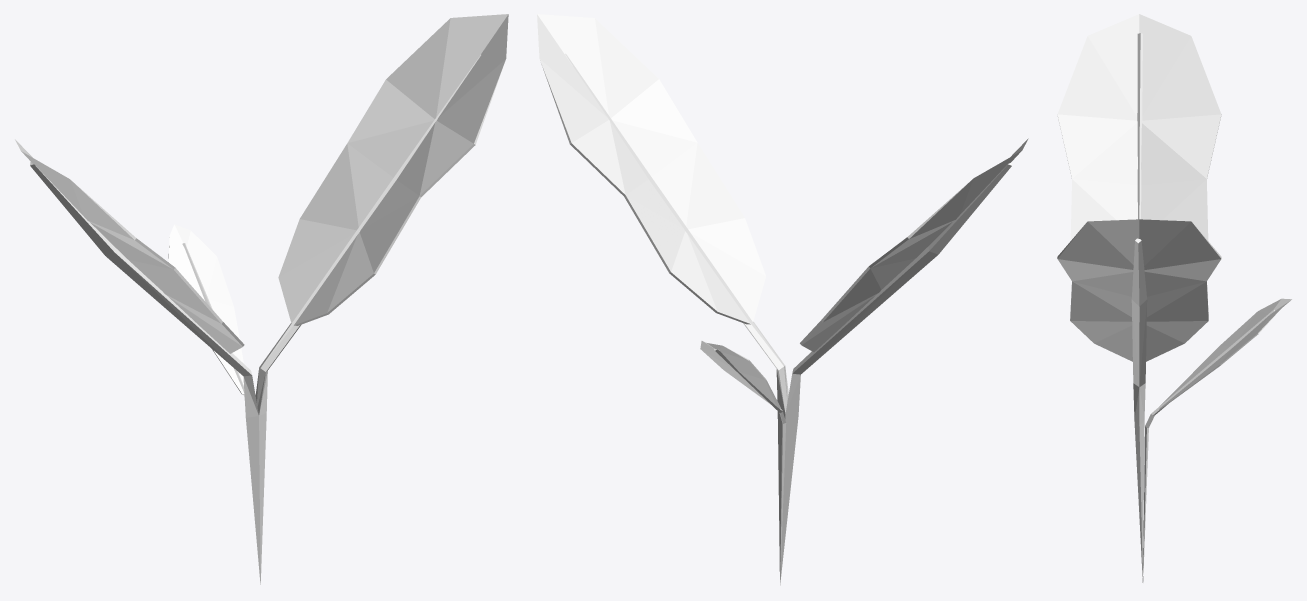
Rendered from Crop_Beetroot_STAGE_1_01.glb.
The picture shows the model from 3 angles, left to right: view 1: azimuth 30°, elevation 25°; view 2: azimuth 150°, elevation 25°; view 3: azimuth 270°, elevation 25°; orthographic projection. The views are drawn at different scales.
Parts seen in each view (by area): view 1: Crop_Beetroot_STAGE_1_01; view 2: Crop_Beetroot_STAGE_1_01; view 3: Crop_Beetroot_STAGE_1_01.
Part boxes in pixels (x1,y1,x2,y2): Crop_Beetroot_STAGE_1_01: (15,14,508,584); Crop_Beetroot_STAGE_1_01: (537,14,1028,585); Crop_Beetroot_STAGE_1_01: (1057,14,1291,582).
Size of the model in its own units: 0.2074 by 0.2089 by 0.0928.
1 material, 1 textured.
